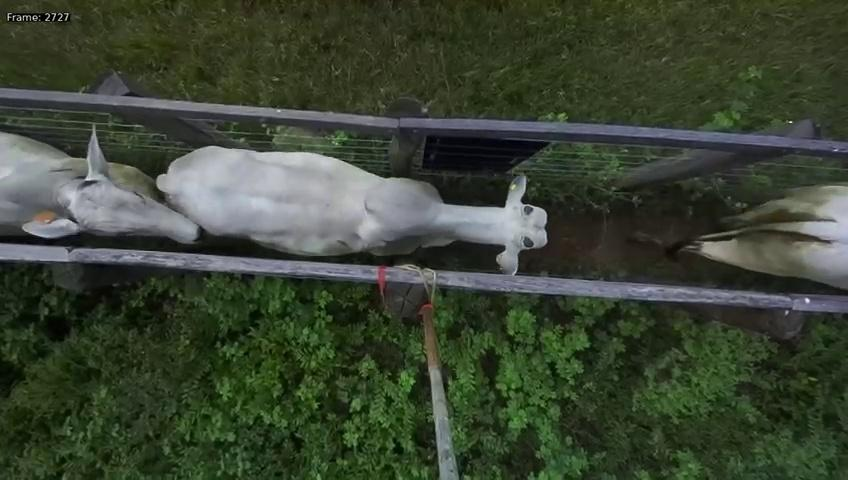cattle: (151, 125, 550, 275)
